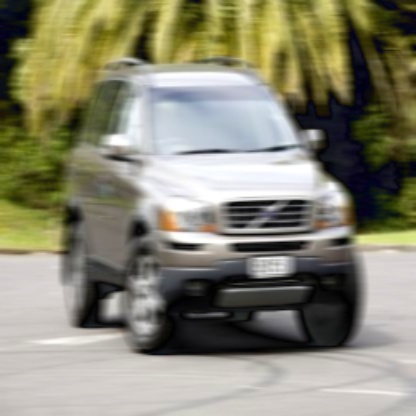Vehicle: (61, 54, 364, 353)
